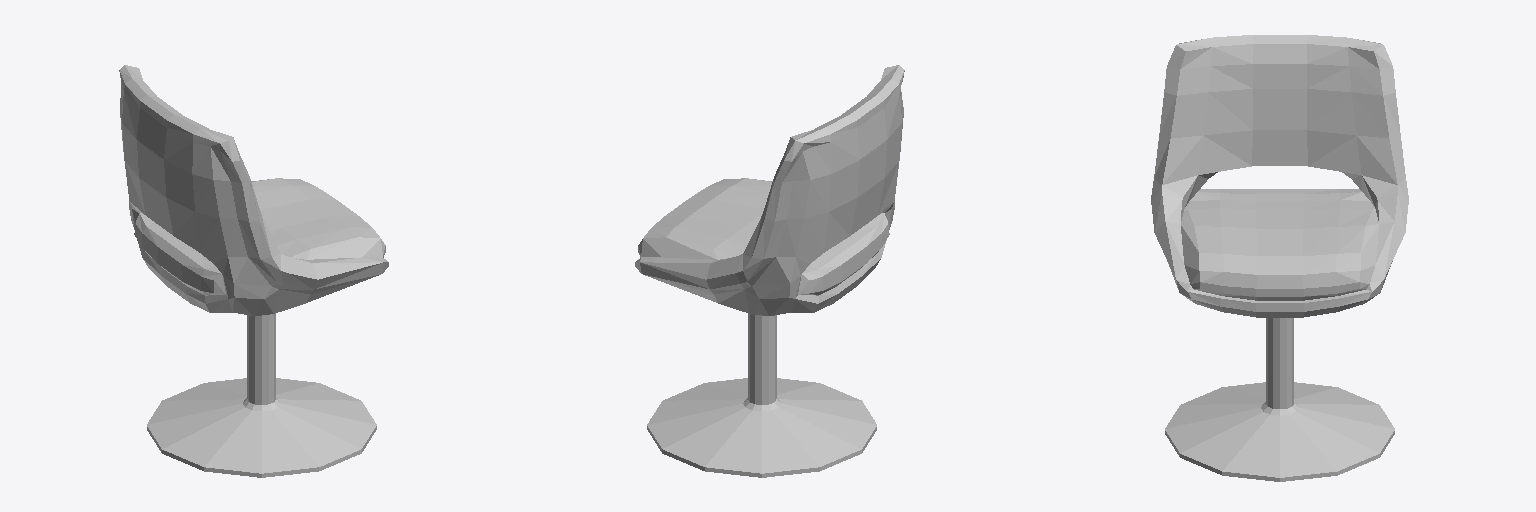
Rendered from chair.obj.
The picture shows the model from 3 angles: view 1: azimuth 30°, elevation 25°; view 2: azimuth 150°, elevation 25°; view 3: azimuth 270°, elevation 25°; orthographic projection.
Parts seen in each view (by area): view 1: MSH_Leather-Chair_MAT_Leather--Chair_0; view 2: MSH_Leather-Chair_MAT_Leather--Chair_0; view 3: MSH_Leather-Chair_MAT_Leather--Chair_0.
Boxes of the visible parts, <box> form: MSH_Leather-Chair_MAT_Leather--Chair_0: <box>119,65,388,477</box>; MSH_Leather-Chair_MAT_Leather--Chair_0: <box>635,65,904,477</box>; MSH_Leather-Chair_MAT_Leather--Chair_0: <box>1151,35,1408,481</box>.
Size of the model in its own units: 0.4924 by 0.7782 by 0.52.